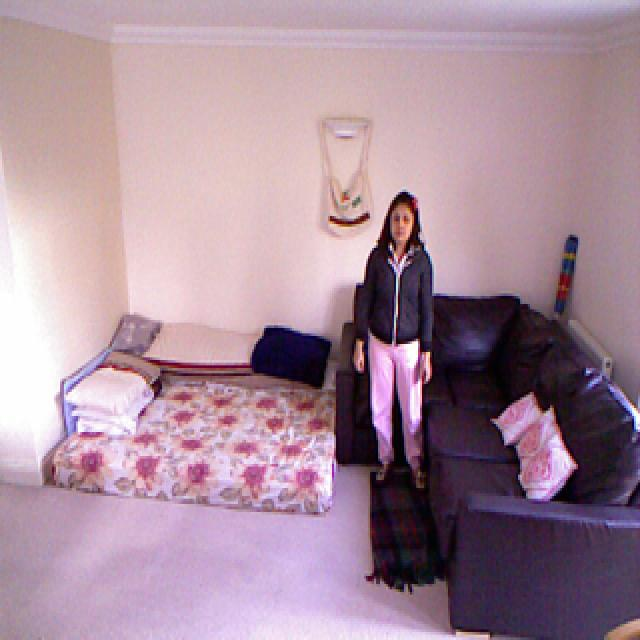standing: (354, 190, 434, 492)
